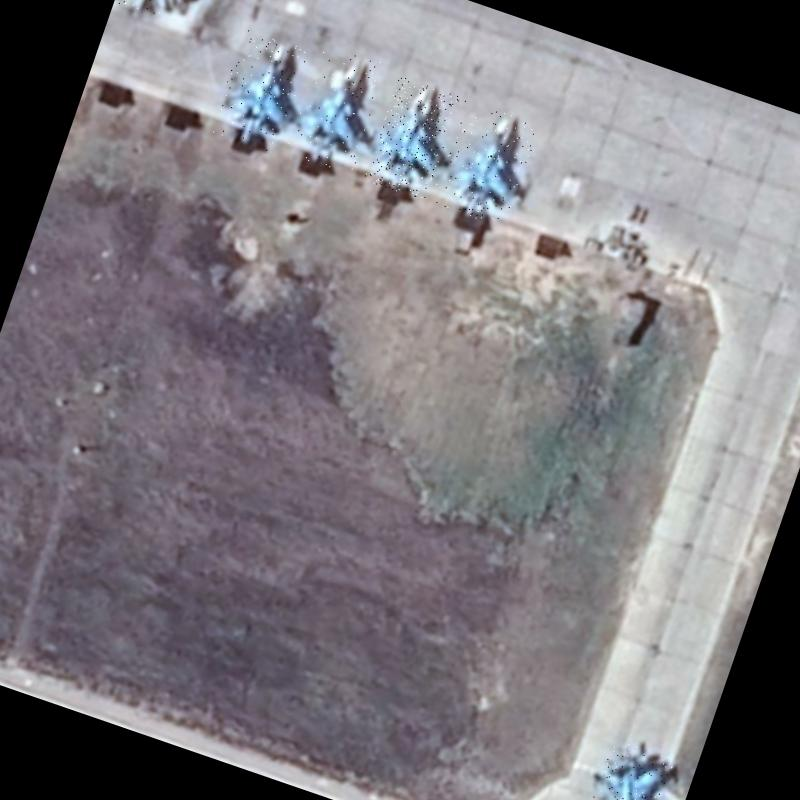A19: (430, 98, 540, 230), (285, 43, 389, 176), (210, 29, 310, 156), (364, 76, 461, 201), (581, 738, 675, 800)
